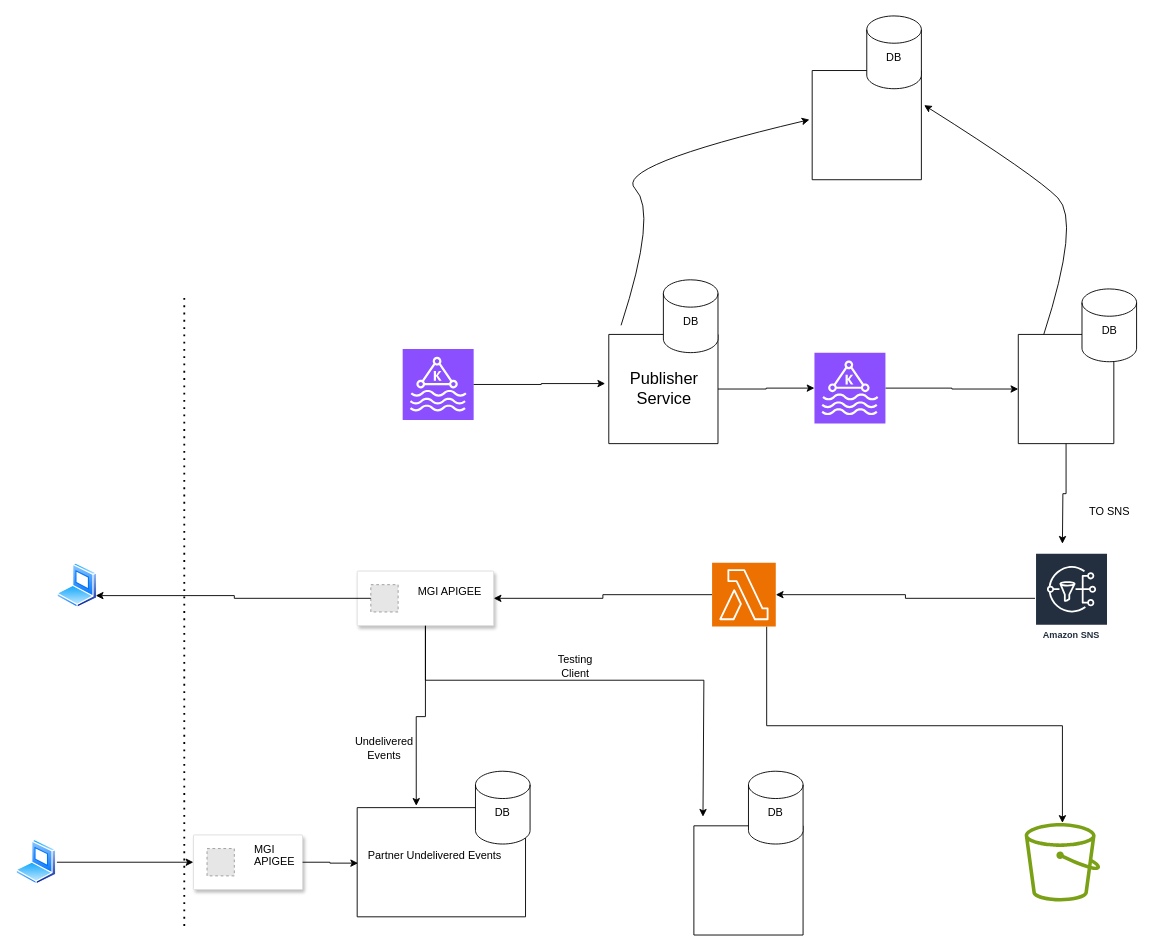
Some shapes in this 1152 by 951 pixel diagram are drawn without their labels. Grey dashed boxes stand in for pictures. The shapes that lost their labels are listed below. From the top down, each one's centre as x and y in pixels, then its label:
At point 866,125: "Retry Service".
At point 1065,389: "Nottification Orchestrator".
At point 748,880: "Partner Mock Data".
